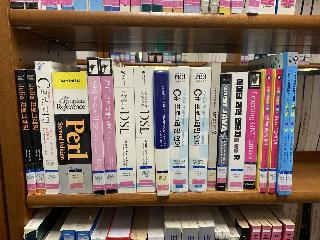book-spine: (52, 70, 92, 195), (34, 60, 60, 195), (187, 66, 211, 193), (167, 66, 190, 193), (114, 67, 136, 193), (134, 67, 156, 193), (15, 68, 36, 195), (25, 69, 46, 194), (227, 71, 248, 192), (87, 57, 105, 195), (100, 58, 117, 193), (154, 70, 170, 196), (243, 72, 260, 190), (206, 62, 221, 190), (268, 69, 283, 194), (216, 73, 231, 191), (280, 52, 292, 195), (286, 52, 298, 195), (259, 68, 272, 192)
